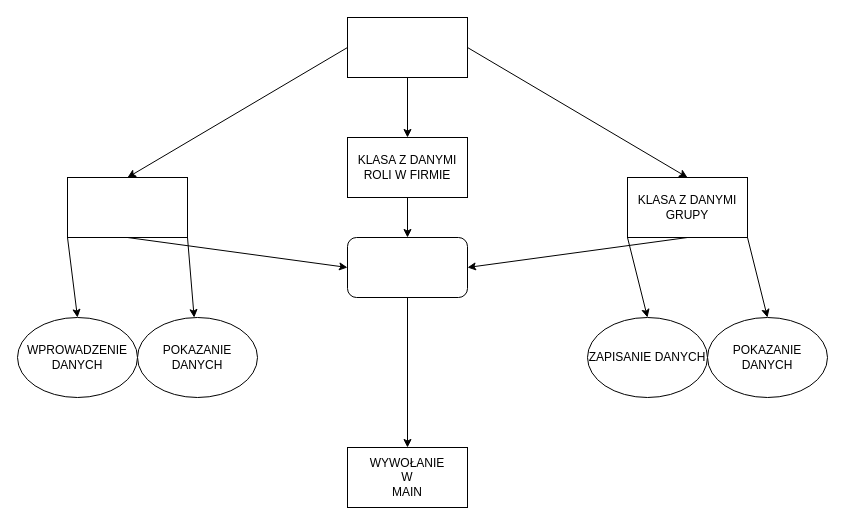
Image size: 845x525. Some labels were removed from this diagram. Here are the shapes that lost their labels. From the top down, the centre of each, then its label:
At [407,47]: "KLASA GŁÓWNA".
At [127,207]: "KLASA Z DANYMI PODSTAWOWYMI".
At [407,267]: "WPISYWANIE Z KLAWIATURY DANYCH".
